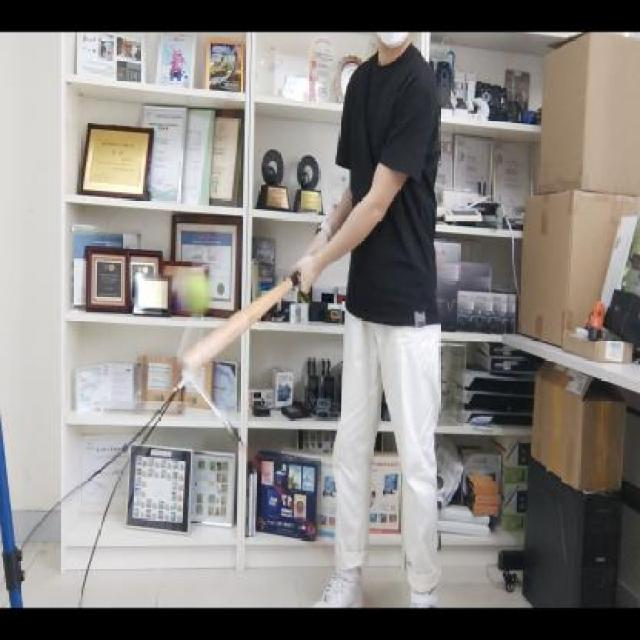baseball: (178, 267, 213, 321)
